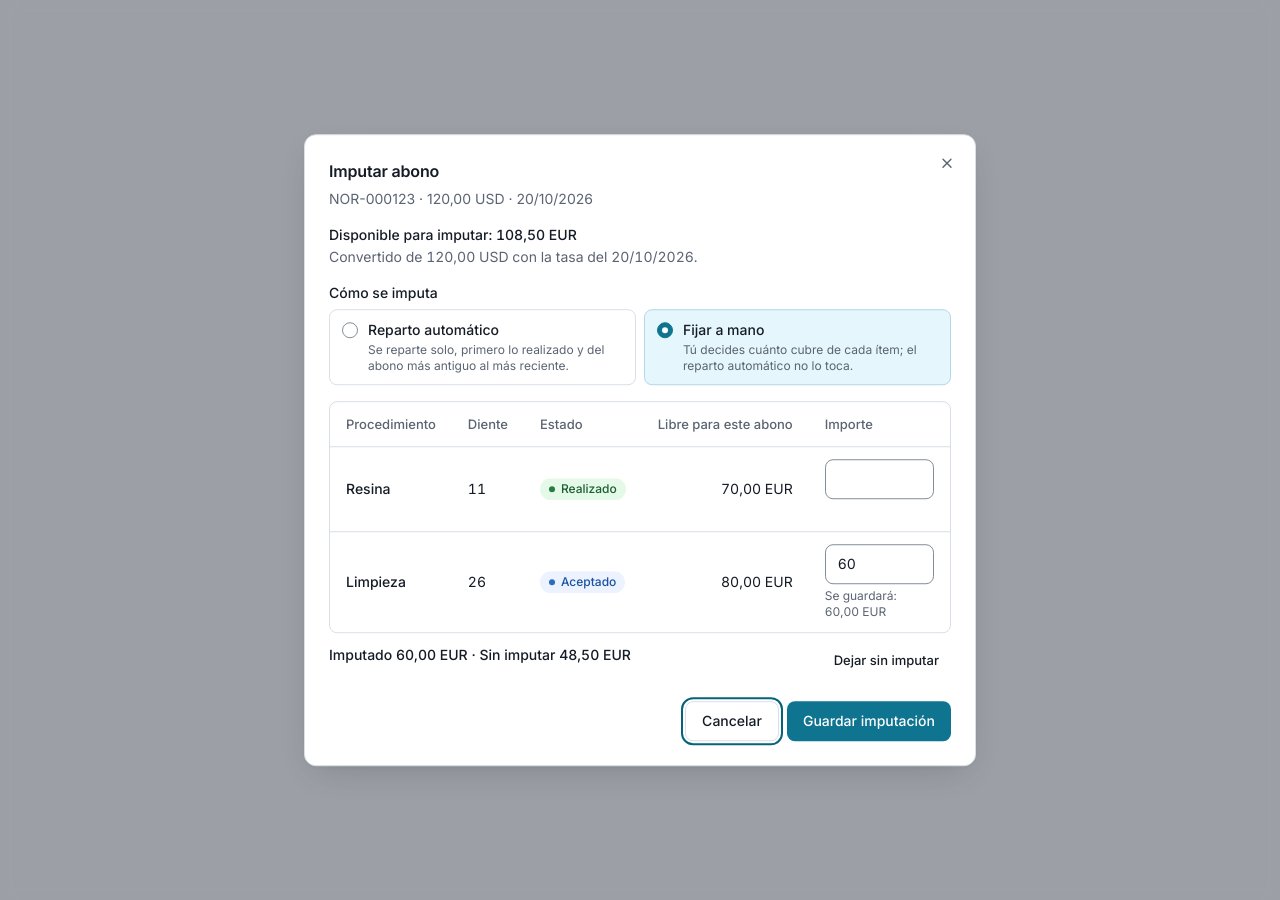
Test: ReallocatePaymentModal (DX-051) › a 400 from the server is shown as is and offers no reload
Click the button "Guardar imputación": (869, 721) top-left (787, 701), bottom-right (951, 741)
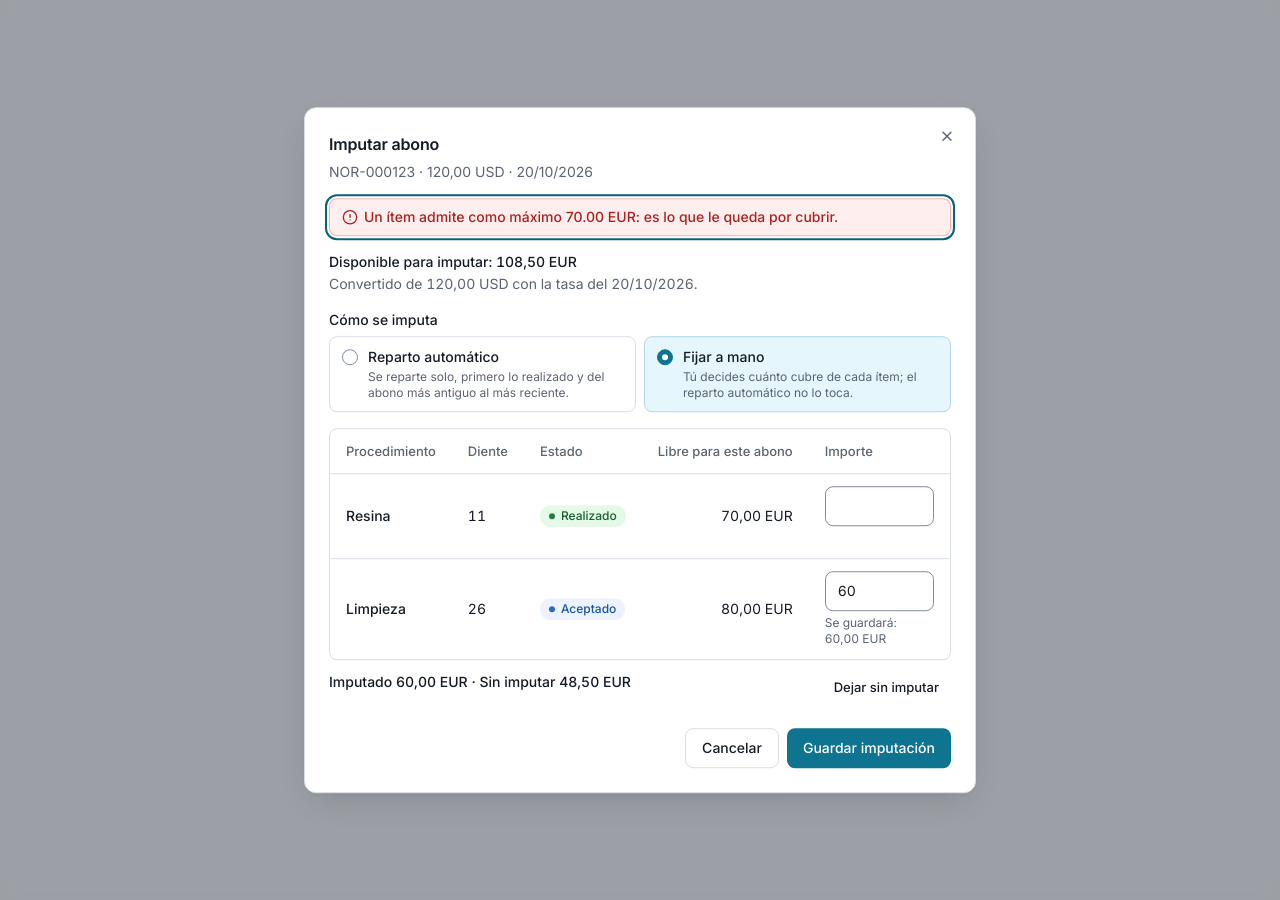
Expected: the text "Un ítem admite como máximo 70.00 EUR: es lo que le queda por cubrir." is shown, top-left (364, 207), bottom-right (838, 227)
